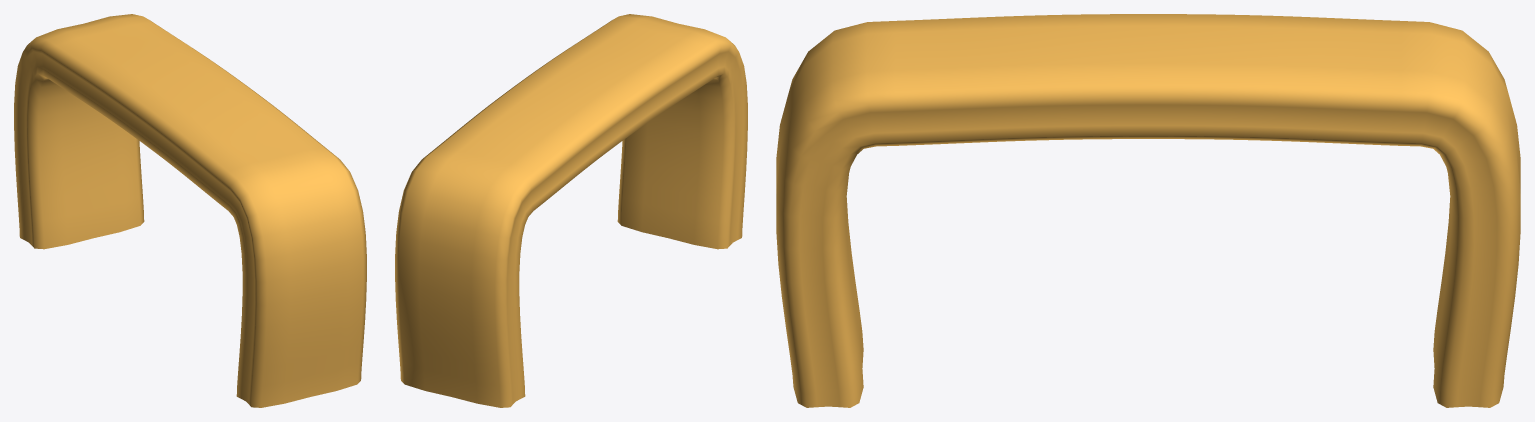
File: CandyBox_Ribbon.fbx
3 views of the same model, side by side, from view 1: azimuth 30°, elevation 25°; view 2: azimuth 150°, elevation 25°; view 3: azimuth 270°, elevation 25° (orthographic). The views are drawn at different scales.
Visible parts, largest first — view 1: ribbon; view 2: ribbon; view 3: ribbon.
Part boxes in pixels (bbox=[...]): ribbon: bbox=[14, 14, 366, 407]; ribbon: bbox=[395, 14, 747, 407]; ribbon: bbox=[776, 14, 1520, 407].
Bounding box in the file's own units: 15.96 × 30.53 × 63.63.
